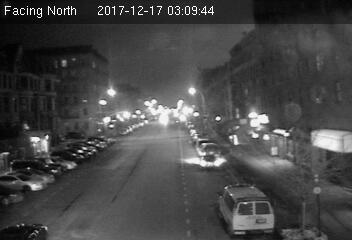police: (216, 182, 281, 238)
